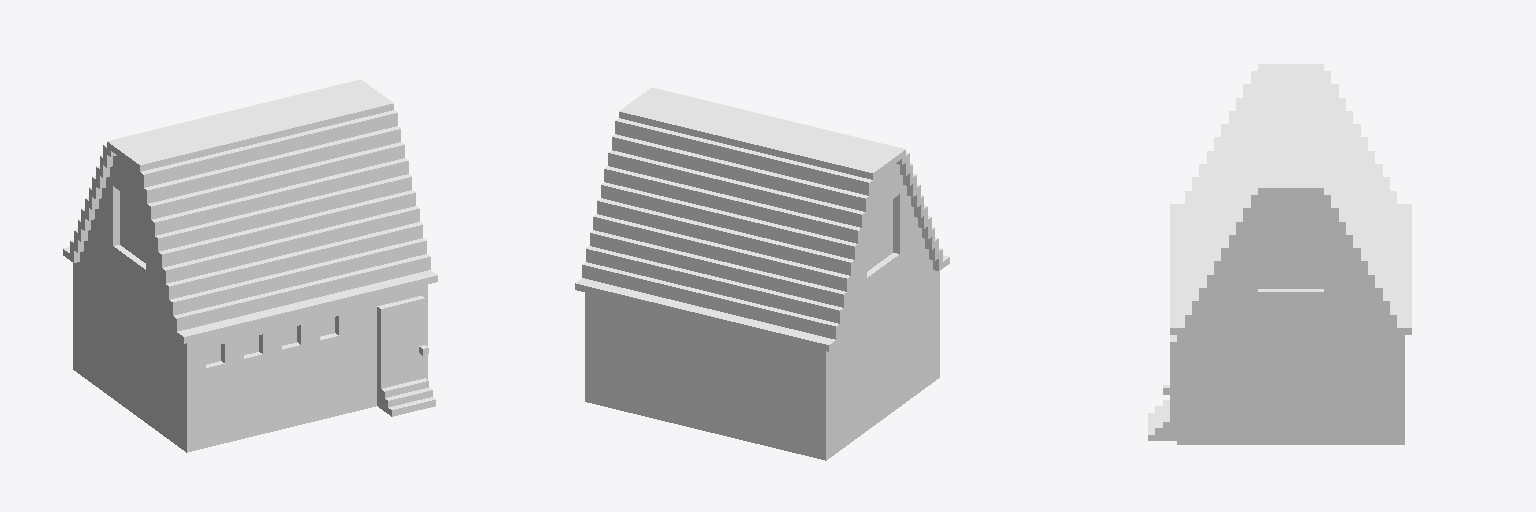
File: home.obj
3 views of the same model, side by side, from view 1: azimuth 30°, elevation 25°; view 2: azimuth 150°, elevation 25°; view 3: azimuth 270°, elevation 25° (orthographic).
Visible parts, largest first — view 1: object 1; view 2: object 1; view 3: object 1.
Part boxes in pixels (bbox=[...]): object 1: bbox=[63, 79, 437, 452]; object 1: bbox=[575, 87, 949, 460]; object 1: bbox=[1148, 64, 1411, 444].
Bounding box in the file's own units: 4 × 3.9 × 3.6.